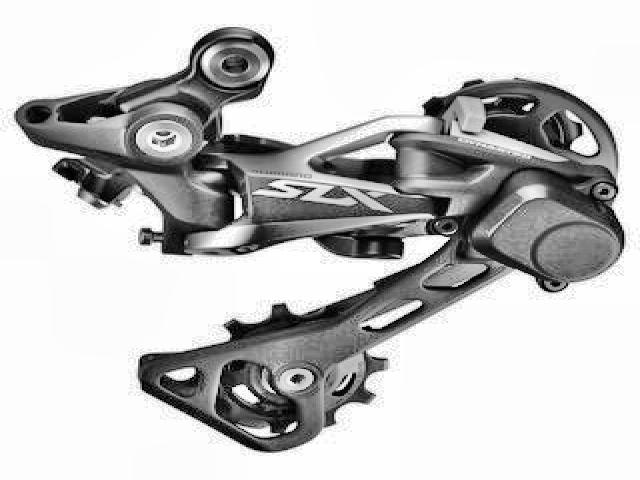rear_derailleur: (9, 22, 631, 453)
